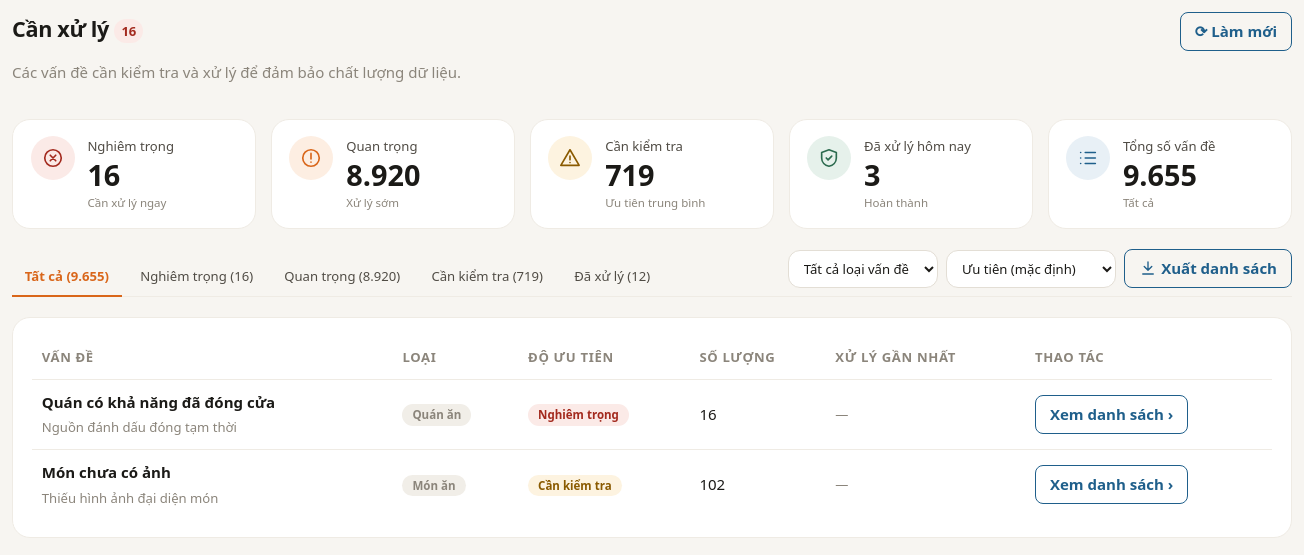
Man "Can xu ly" - phan bo sung › tab "Da xu ly" dem tu resolved_total va chi tai khi duoc mo
Step 1. Click the button "Đã xử lý (12)" → (612, 277), box [562,258,663,297]
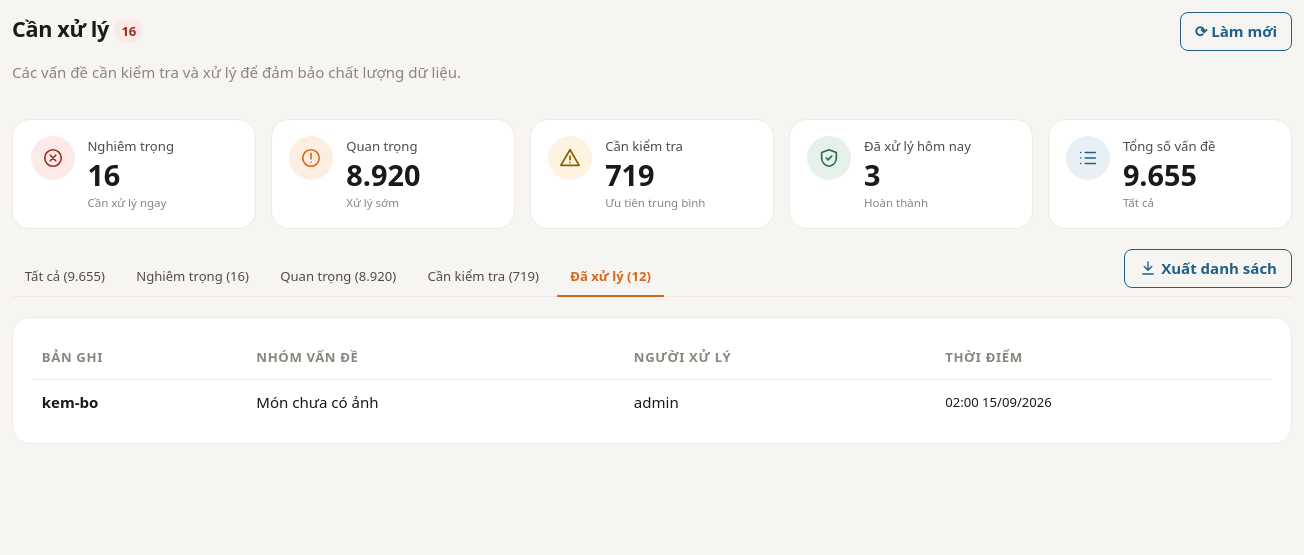
Expected: the text "Món chưa có ảnh" is shown, [247,379,624,425]
Result: the text "kem-bo" is shown at [42,392,98,412]
